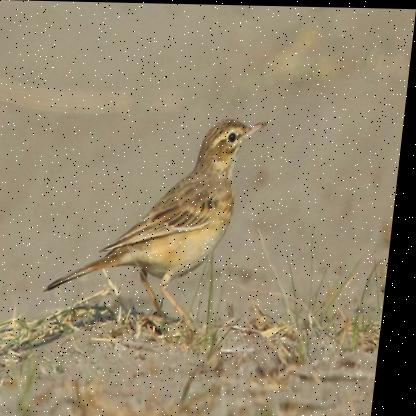Burung: (51, 110, 272, 321)
